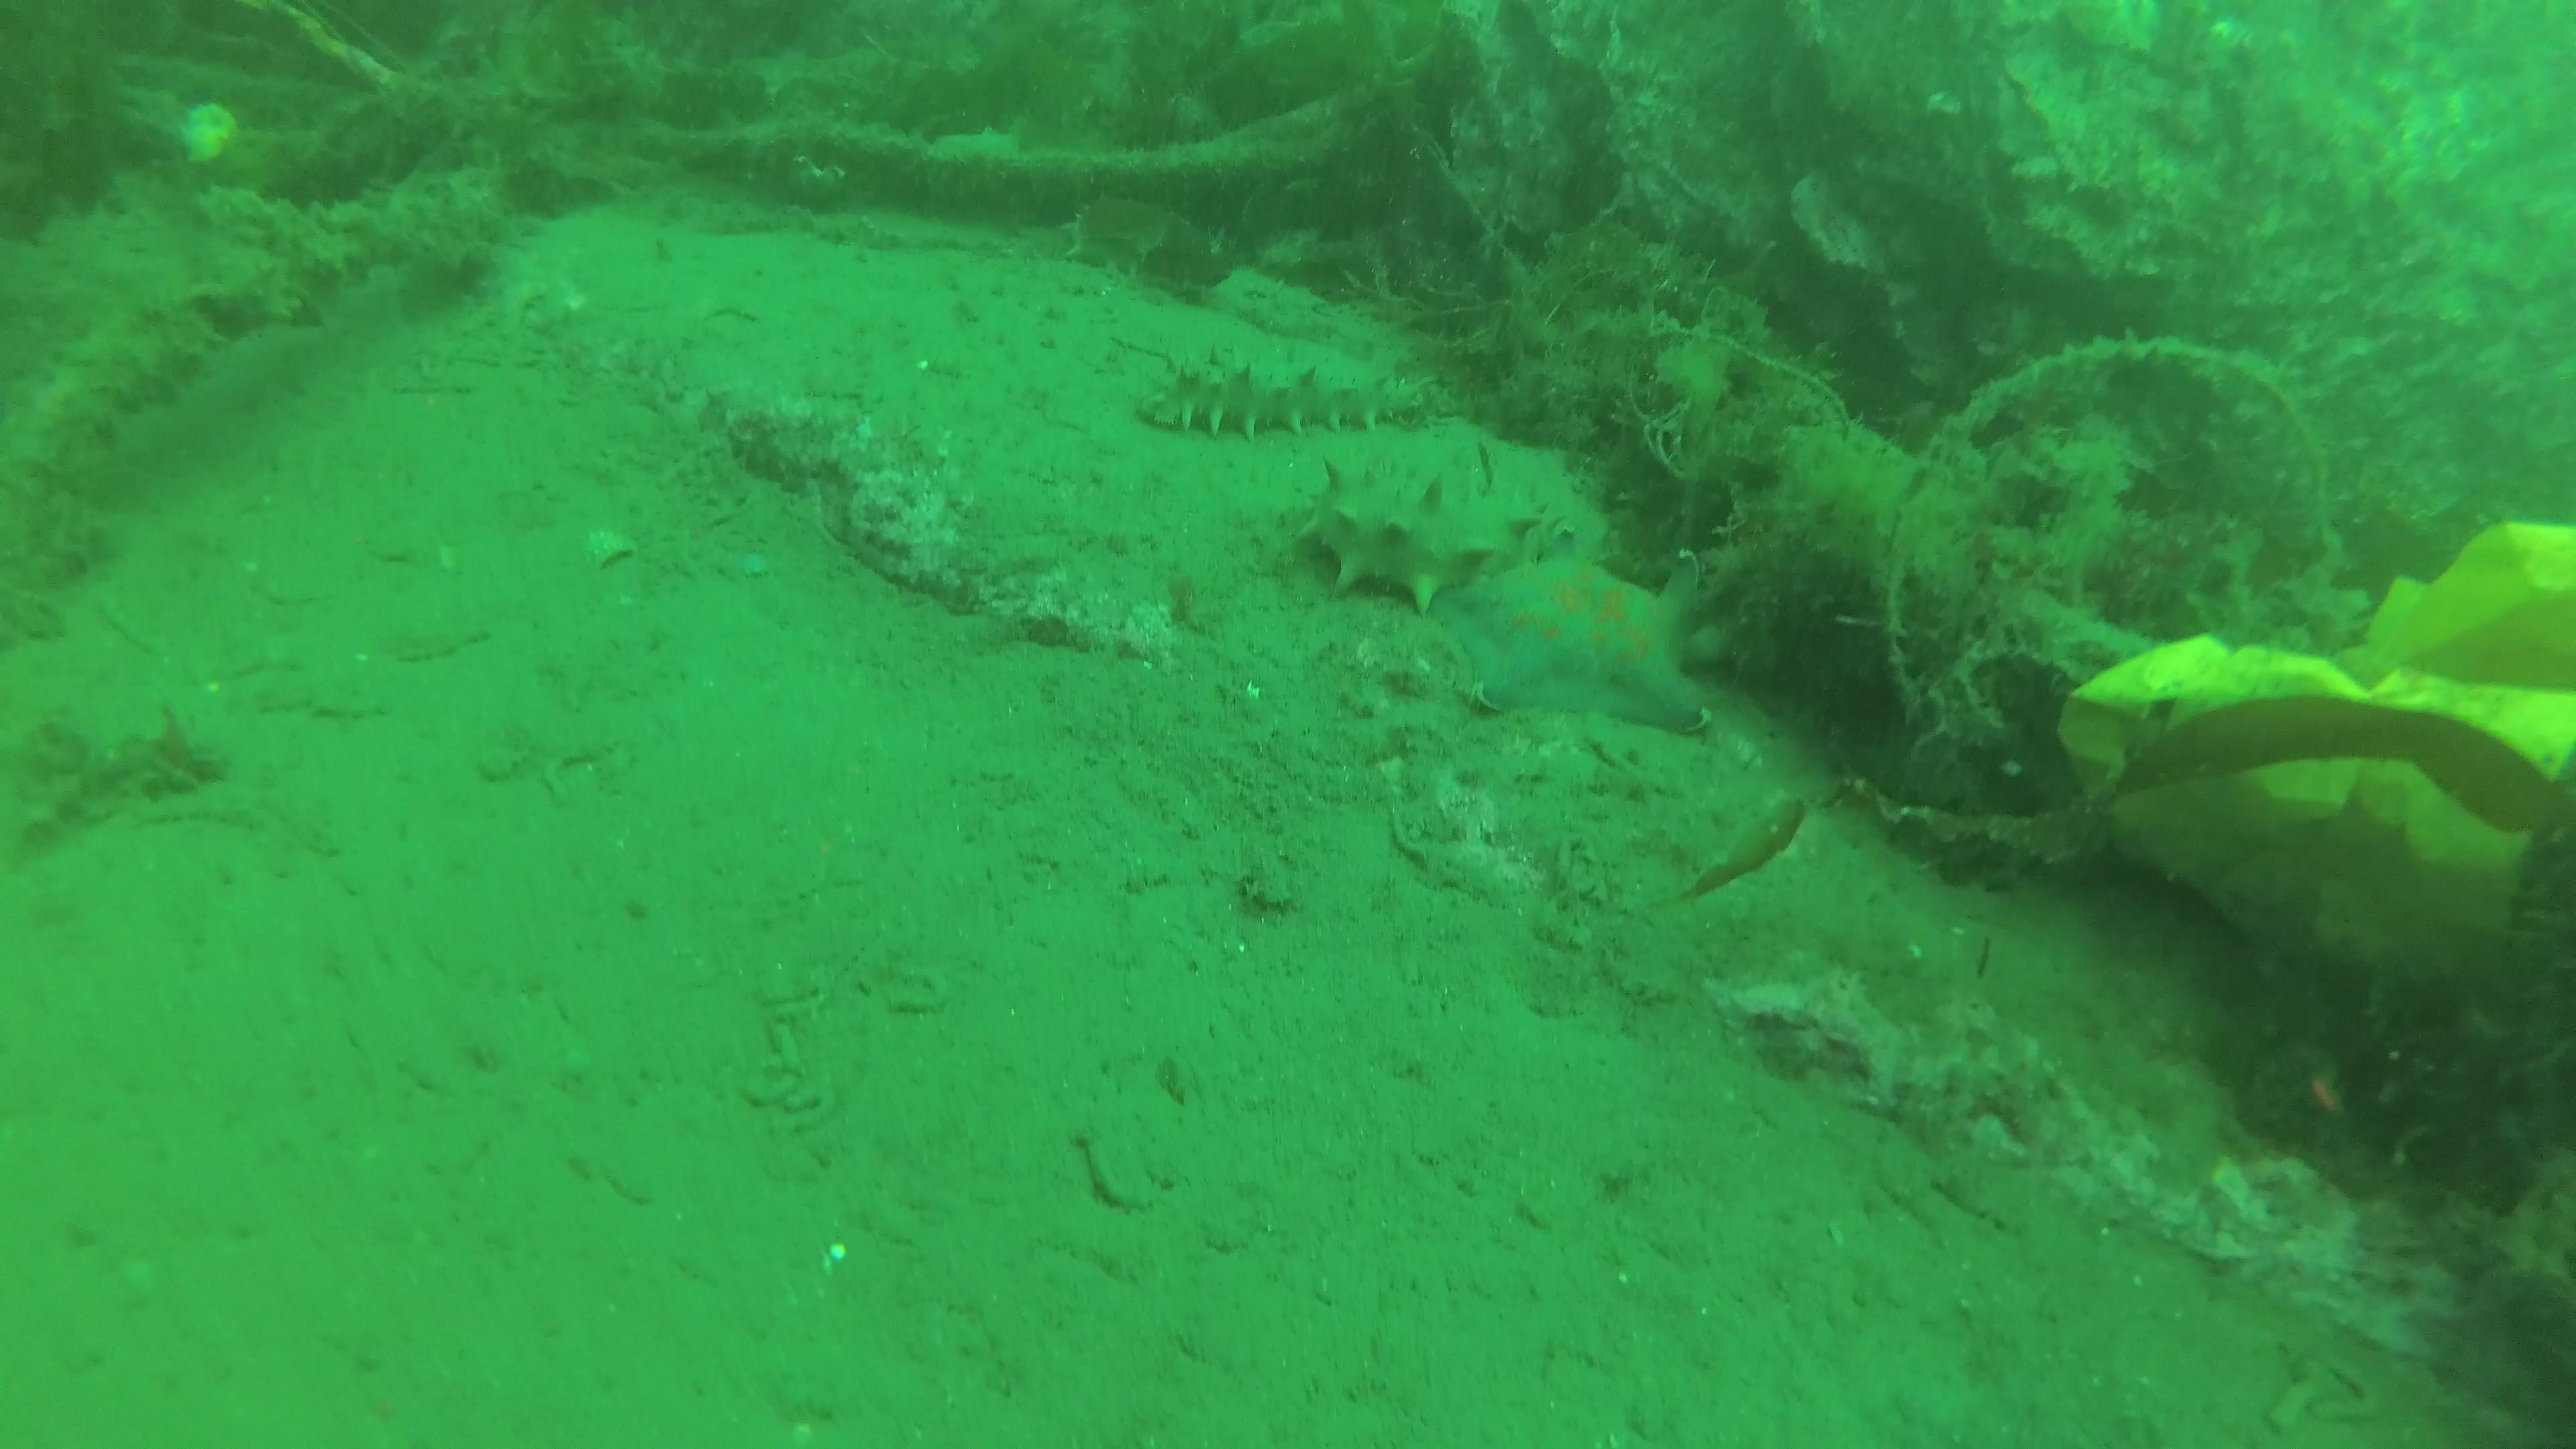holothurian: (1302, 448, 1571, 617), (1139, 338, 1445, 441), (1060, 195, 1235, 295)
starfish: (1428, 525, 1721, 738), (780, 150, 849, 211)
